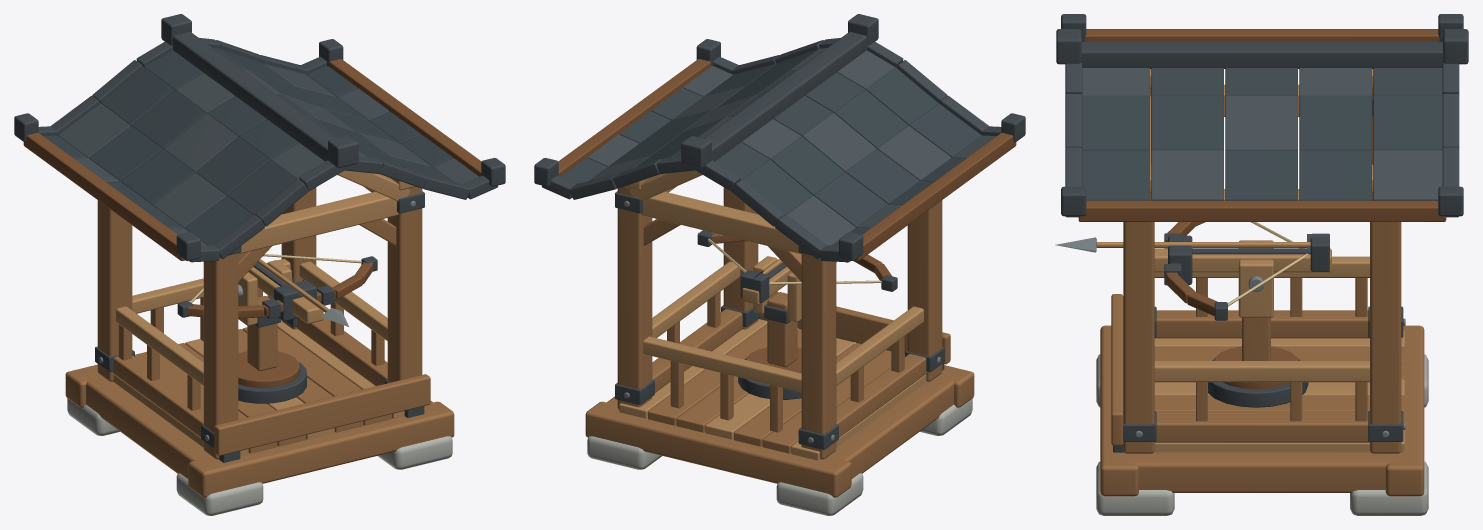
The model's file is tower_stage_complete.glb.
3 views of the same model, side by side, from view 1: azimuth 30°, elevation 25°; view 2: azimuth 150°, elevation 25°; view 3: azimuth 270°, elevation 25° (orthographic). The views are drawn at different scales.
Parts seen in each view (by area): view 1: base_beam_front, front_deck_lip, post_LF, post_RF, roof_ridge, base_beam_left, post_LB, upper_beam_front, roof_eave_L, roof_eave_R, sill_left, sill_right (+60 smaller); view 2: base_beam_back, post_LB, post_RB, post_LF, roof_ridge, base_beam_left, upper_beam_back, roof_eave_L, rail_back, roof_eave_R, sill_left, deck_plank_05 (+64 smaller); view 3: base_beam_right, roof_ridge, roof_eave_R, post_RB, post_RF, sill_right, sill_left, rail_right, roof_eave_L, base_beam_back, roof_R_1_1, roof_R_1_2 (+50 smaller).
Part boxes in pixels (box(x1,y1,x2,y2)): base_beam_front: box(188, 401, 454, 497); front_deck_lip: box(214, 374, 430, 455); post_LF: box(203, 253, 238, 459); post_RF: box(387, 186, 422, 382); roof_ridge: box(172, 32, 335, 161); base_beam_left: box(83, 373, 211, 478); post_LB: box(97, 200, 132, 381); upper_beam_front: box(238, 191, 398, 254); roof_eave_L: box(23, 132, 184, 260); roof_eave_R: box(329, 59, 481, 176); sill_left: box(112, 355, 203, 437); sill_right: box(296, 318, 387, 385); base_beam_back: box(585, 401, 851, 497); post_LB: box(801, 253, 836, 459); post_RB: box(617, 186, 652, 409); post_LF: box(907, 200, 942, 381); roof_ridge: box(704, 32, 867, 161); base_beam_left: box(828, 373, 956, 478); upper_beam_back: box(641, 191, 801, 254); roof_eave_L: box(855, 132, 1016, 260); rail_back: box(643, 336, 801, 392); roof_eave_R: box(558, 59, 710, 176); sill_left: box(836, 354, 927, 437); deck_plank_05: box(648, 324, 767, 425); base_beam_right: box(1124, 452, 1400, 492); roof_ridge: box(1081, 42, 1443, 68); roof_eave_R: box(1078, 200, 1446, 221); post_RB: box(1370, 192, 1401, 453); post_RF: box(1123, 192, 1154, 453); sill_right: box(1154, 414, 1369, 442); sill_left: box(1155, 310, 1369, 338); rail_right: box(1154, 361, 1369, 382); roof_eave_L: box(1085, 29, 1439, 41); base_beam_back: box(1385, 325, 1424, 496); roof_R_1_1: box(1151, 96, 1223, 150); roof_R_1_2: box(1225, 96, 1297, 150).
Size of the model in its own units: 3.55 by 3.79 by 3.43.
